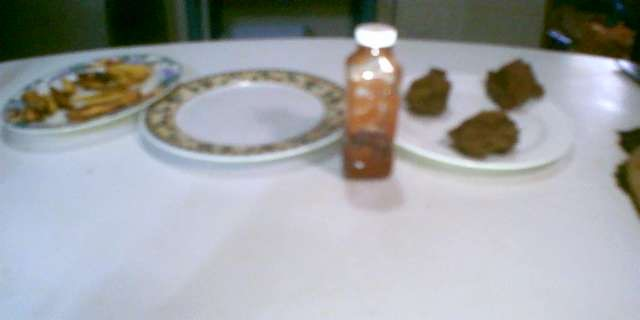chicken: (440, 109, 526, 161), (478, 52, 546, 111), (398, 63, 455, 119)
empty_plate: (139, 61, 347, 169)
ketchup_bottle: (339, 16, 405, 187)
potatoe_fries: (14, 58, 146, 124)
